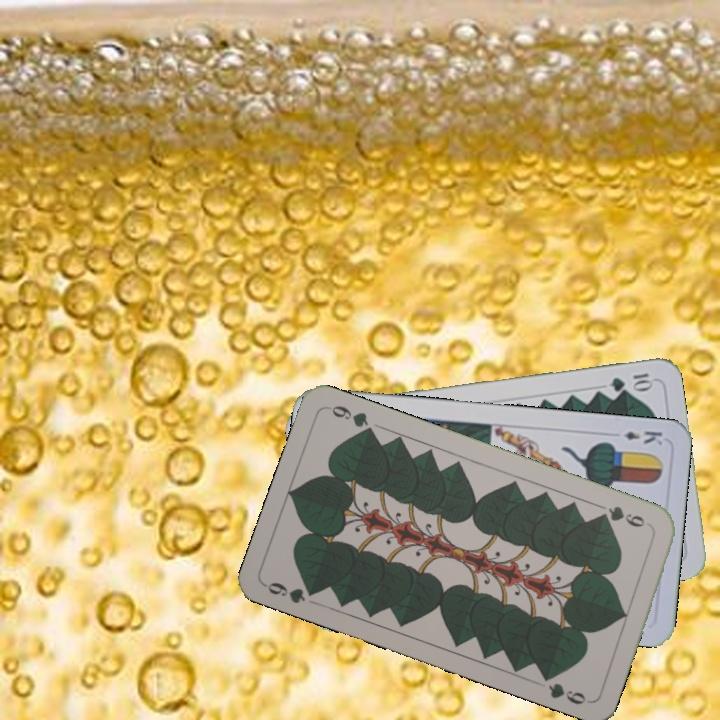EK: (619, 426, 665, 448)
G10: (606, 369, 656, 394)
G9: (261, 578, 322, 606), (594, 502, 654, 530)
